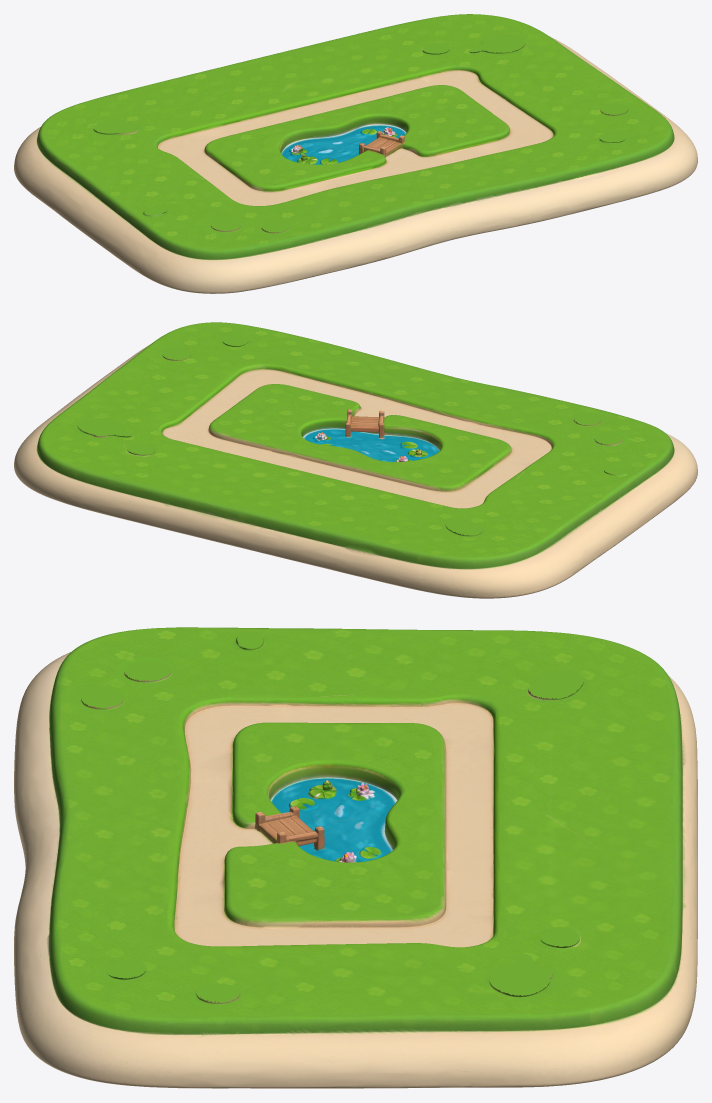
Rendered from base_island.glb.
3 renders of one model, top to bottom at view 1: azimuth 30°, elevation 25°; view 2: azimuth 150°, elevation 25°; view 3: azimuth 270°, elevation 25°, orthographic. The views are drawn at different scales.
Size of the model in its own units: 1.9 by 0.1319 by 1.28.
Materials: 1 (1 with a texture image).
